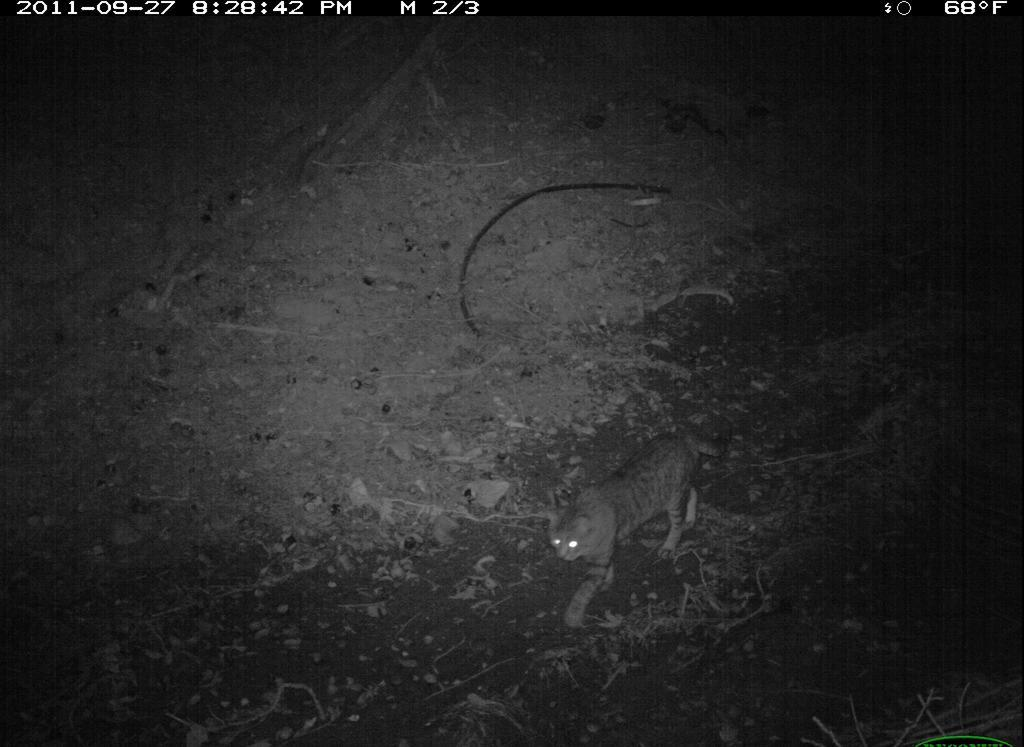cat: (530, 424, 738, 632)
